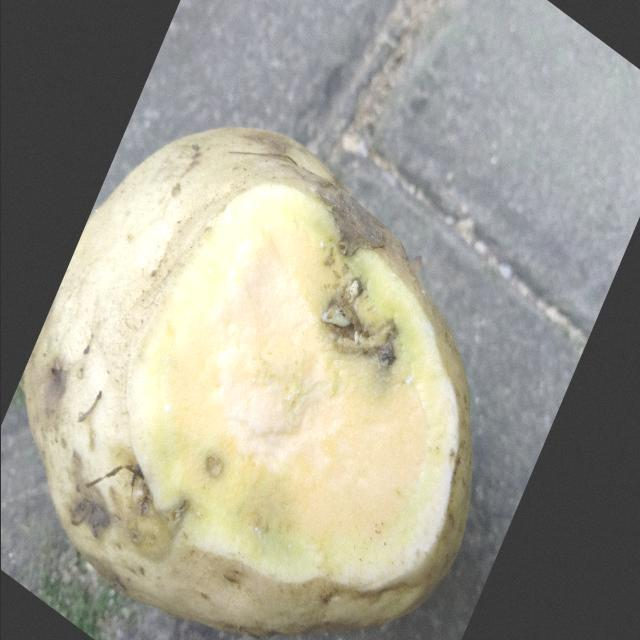Sick Sweet Potato_Tuber Rot: (126, 183, 469, 592)
